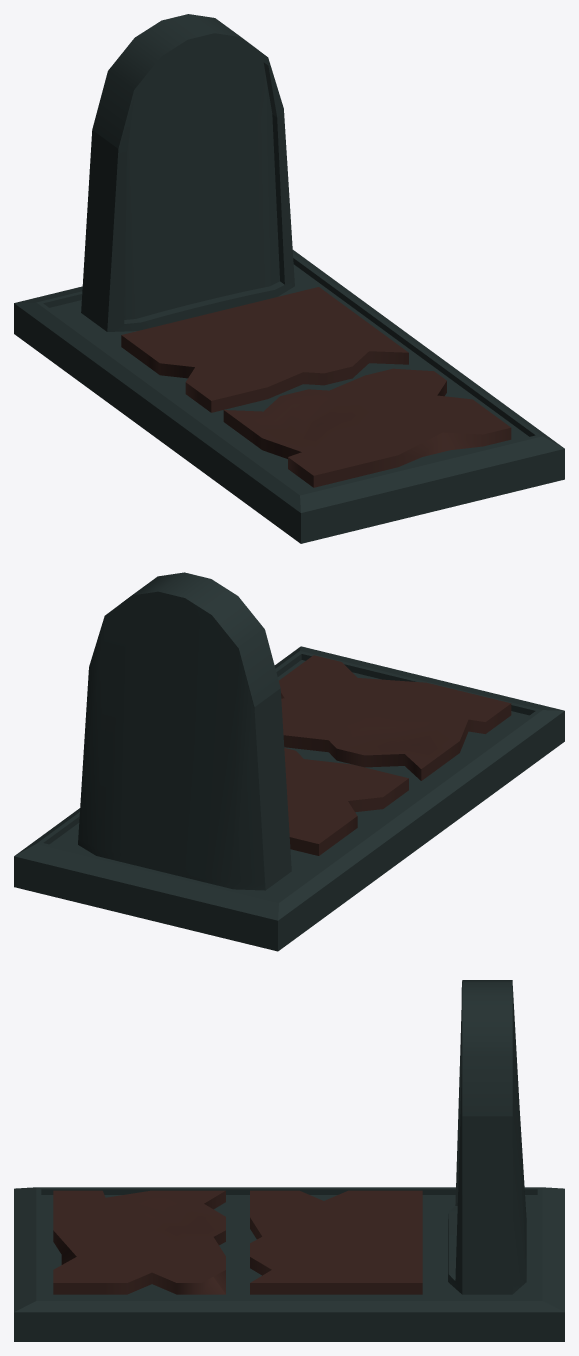
The picture shows the model from 3 angles, top to bottom: view 1: azimuth 30°, elevation 25°; view 2: azimuth 150°, elevation 25°; view 3: azimuth 270°, elevation 25°; orthographic projection. The views are drawn at different scales.
Parts seen in each view (by area): view 1: Grabe1 pCube1, group1 Grabe1 pCube2, pCube3 group1 Grabe1; view 2: Grabe1 pCube1, pCube3 group1 Grabe1, group1 Grabe1 pCube2; view 3: Grabe1 pCube1, group1 Grabe1 pCube2, pCube3 group1 Grabe1.
Boxes of the visible parts, box(x1,y1,x2,y2) form: Grabe1 pCube1: box(14, 14, 564, 543); group1 Grabe1 pCube2: box(121, 287, 408, 412); pCube3 group1 Grabe1: box(223, 368, 511, 487); Grabe1 pCube1: box(14, 572, 564, 951); pCube3 group1 Grabe1: box(279, 655, 511, 780); group1 Grabe1 pCube2: box(284, 748, 408, 855); Grabe1 pCube1: box(14, 980, 564, 1341); group1 Grabe1 pCube2: box(250, 1190, 422, 1294); pCube3 group1 Grabe1: box(53, 1190, 225, 1294).
Size of the model in its own units: 1.42 by 1.56 by 2.66.
